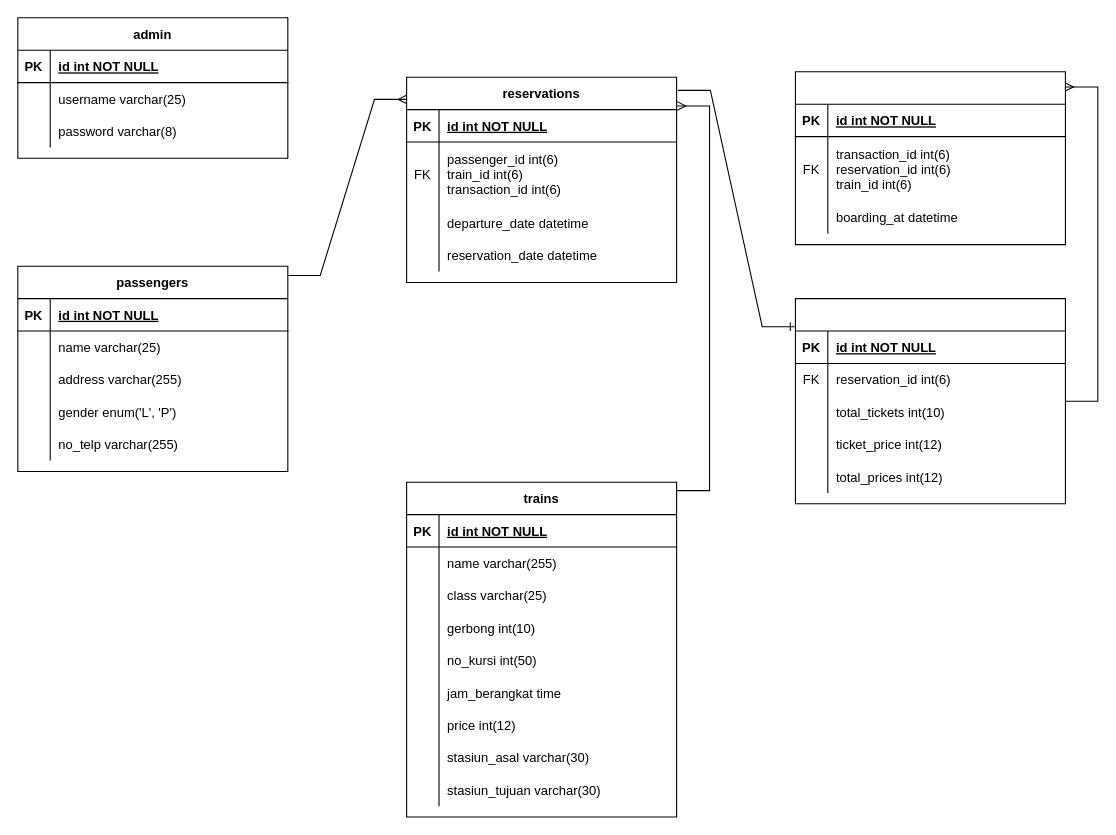
Image size: 1116x835. Some labels were removed from this diagram. The box of each missing label's shape, as (x1, y1, x2, y2) in pixels:
tickets: (794, 71, 1065, 245)
transactions: (794, 298, 1065, 504)
